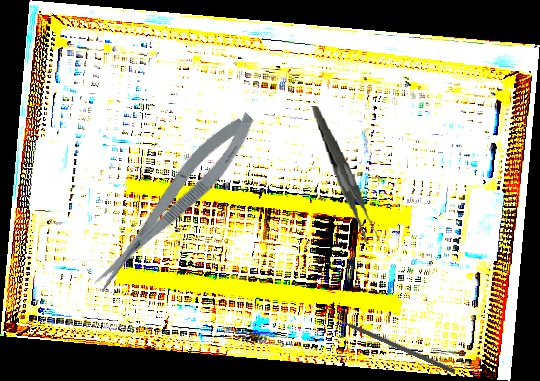Dressing Forceps: (311, 101, 381, 248)
Hook Surgical: (327, 312, 457, 374)
Micro Scissor: (81, 104, 266, 299)
